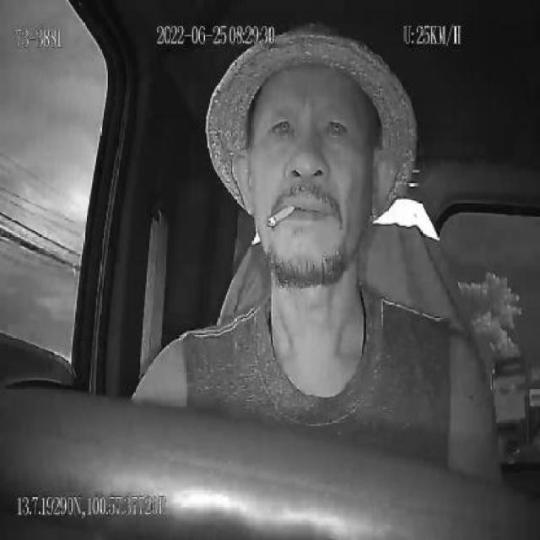smoking: (267, 201, 297, 230)
